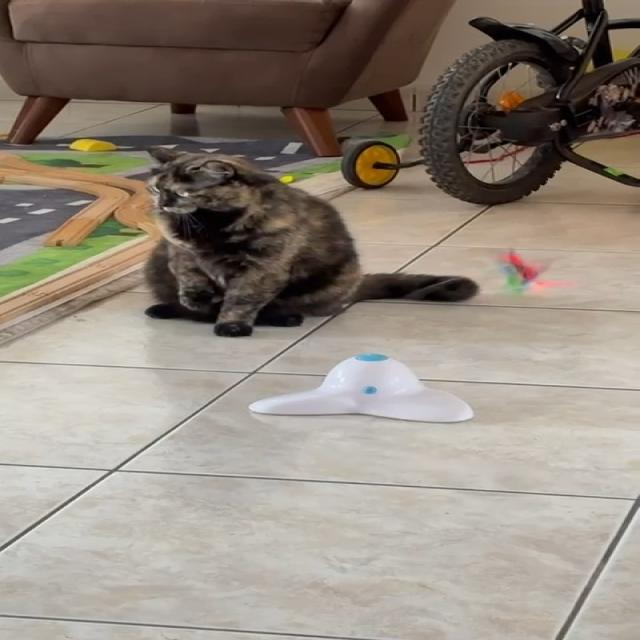authorized: (141, 145, 479, 337)
